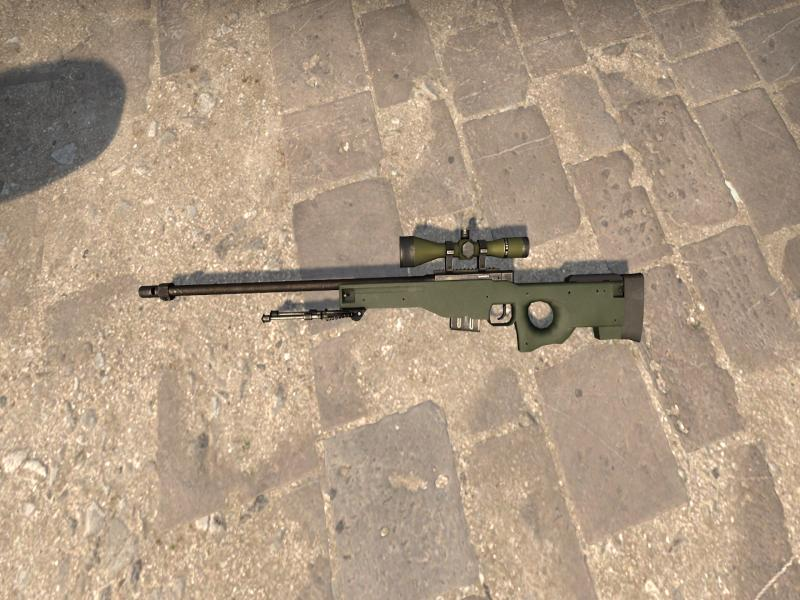AWP: (138, 229, 645, 352)
